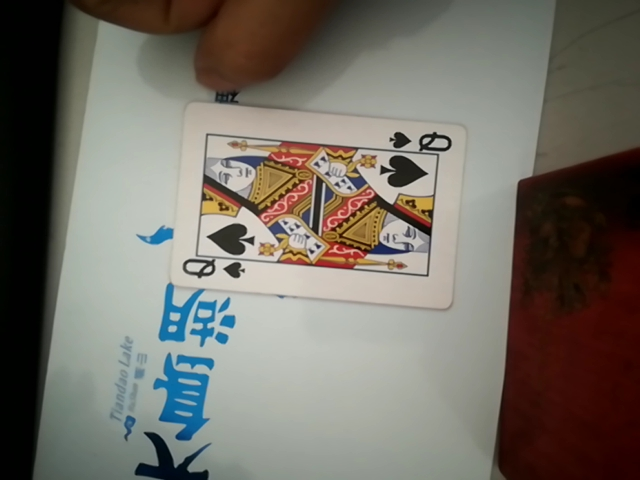ht q: (166, 100, 469, 313)
